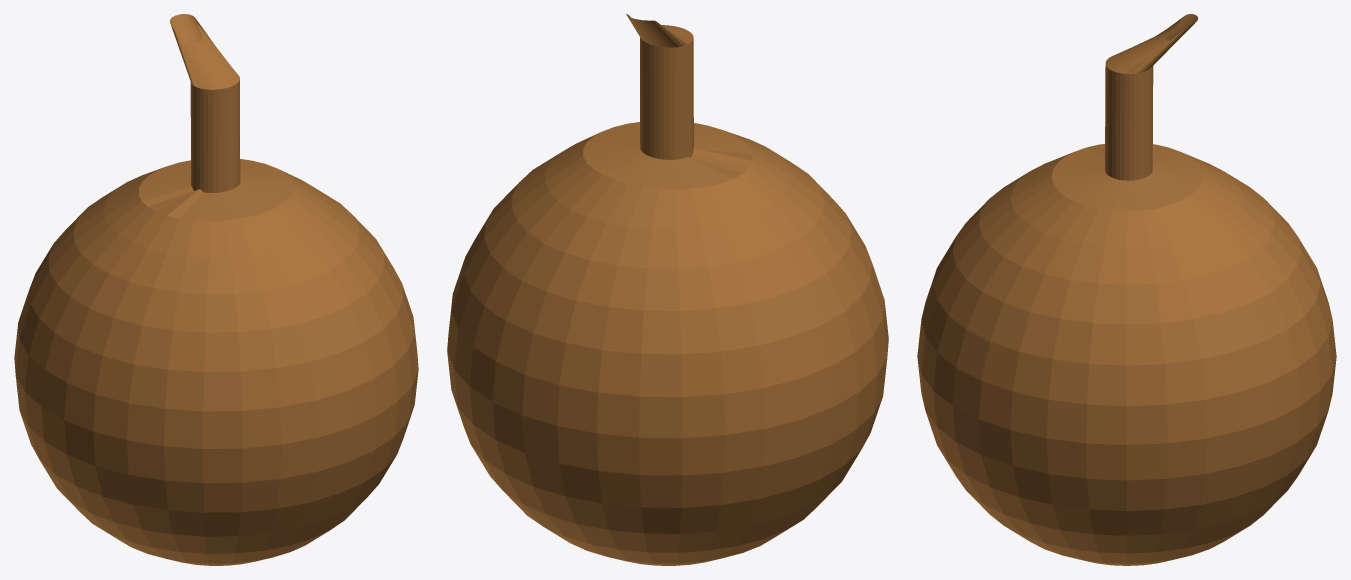
Rendered from onion.glb.
3 views of the same model, side by side, from view 1: azimuth 30°, elevation 25°; view 2: azimuth 150°, elevation 25°; view 3: azimuth 270°, elevation 25° (orthographic). The views are drawn at different scales.
Parts seen in each view (by area): view 1: Esfera UV; view 2: Esfera UV; view 3: Esfera UV.
Part boxes in pixels (x1,y1,x2,y2): Esfera UV: (14, 14, 418, 565); Esfera UV: (447, 14, 888, 565); Esfera UV: (917, 14, 1336, 565).
Bounding box in the file's own units: 2 × 2.77 × 2.
1 material, 1 textured.
